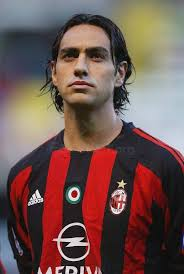no-glove: (46, 35, 121, 118)
